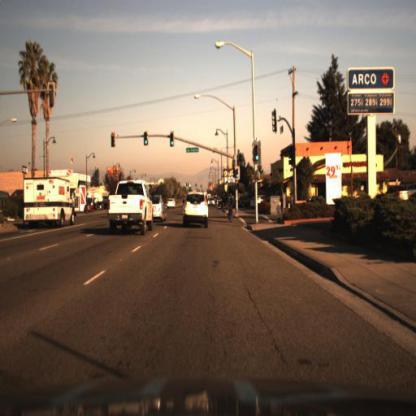biker: (224, 189, 235, 225), (225, 191, 235, 224)
car: (24, 178, 77, 233), (24, 177, 77, 230), (107, 182, 153, 235), (181, 191, 210, 230), (151, 188, 166, 232), (152, 191, 169, 229), (250, 193, 270, 213)
trafficLight-Green: (254, 140, 262, 167), (143, 129, 151, 148), (254, 144, 261, 165), (169, 132, 177, 150), (144, 130, 151, 148), (170, 133, 176, 148), (236, 167, 241, 180)
trafficLight-RedLeft: (110, 132, 119, 155), (108, 130, 116, 148)
